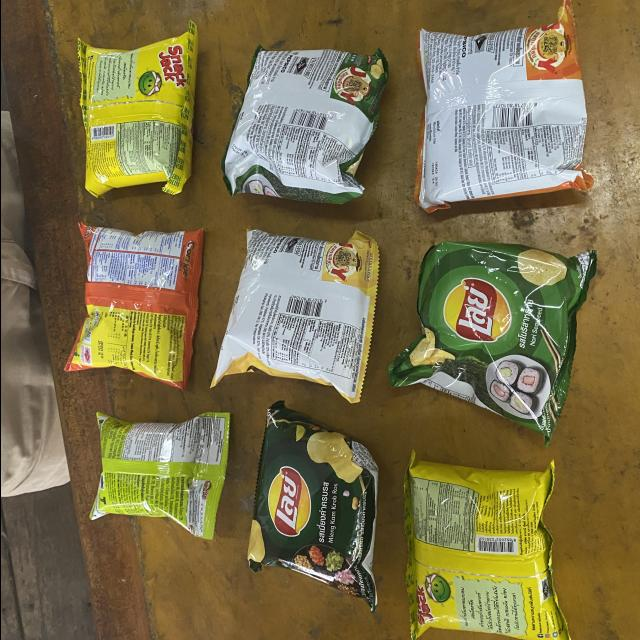plastik: (387, 241, 596, 444), (415, 0, 592, 211), (404, 454, 570, 640), (210, 230, 378, 403), (247, 402, 377, 612), (222, 47, 387, 204), (64, 224, 203, 391), (76, 22, 196, 197), (89, 412, 228, 540)
